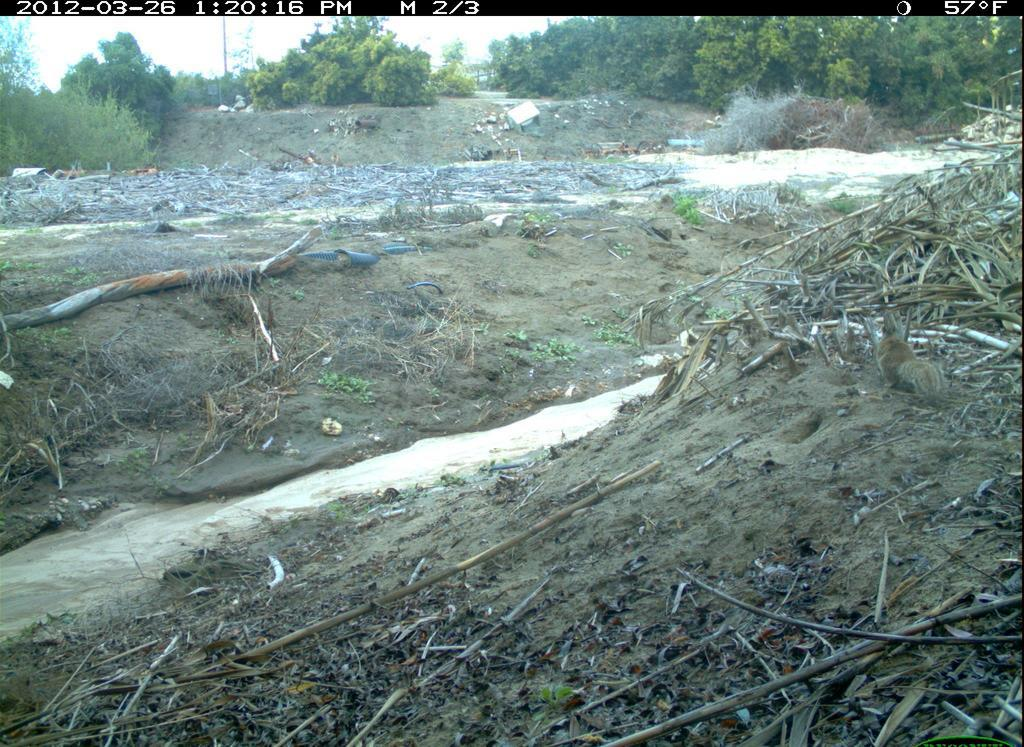squirrel: (865, 306, 952, 428)
